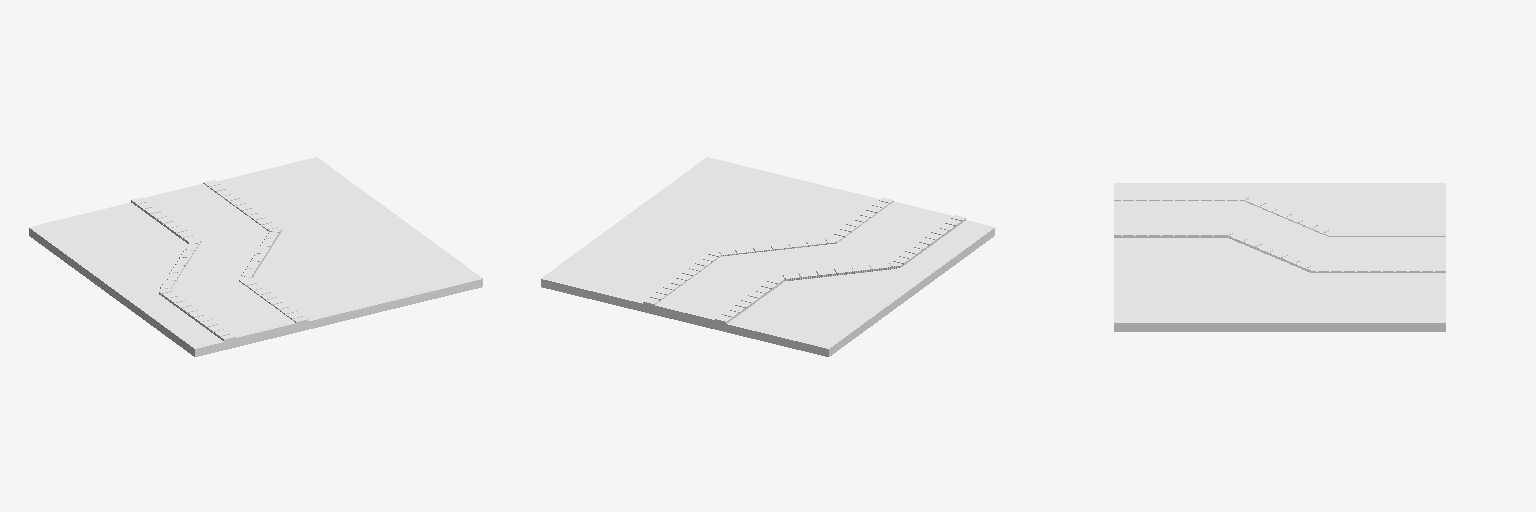
File: roadLine4.obj
3 views of the same model, side by side, from view 1: azimuth 30°, elevation 25°; view 2: azimuth 150°, elevation 25°; view 3: azimuth 270°, elevation 25° (orthographic).
Parts seen in each view (by area): view 1: object 1; view 2: object 1; view 3: object 1.
Boxes of the visible parts, x1=… form: object 1: x1=29, y1=157, x2=482, y2=356; object 1: x1=541, y1=157, x2=994, y2=356; object 1: x1=1114, y1=183, x2=1445, y2=331.
Size of the model in its own units: 25.6 by 0.9 by 25.6.